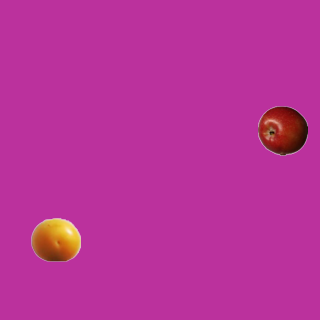Apple Braeburn: (257, 105, 307, 155)
Cherry Wax Yellow: (30, 214, 80, 264)
